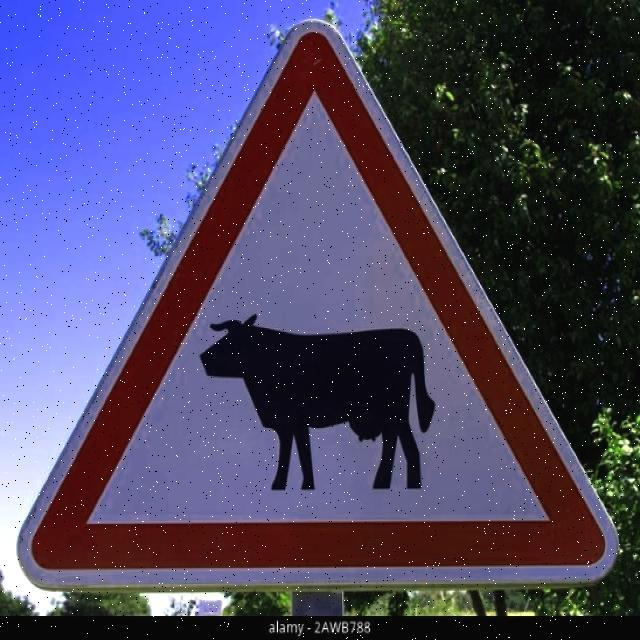Traffic sign: (13, 16, 621, 598)
